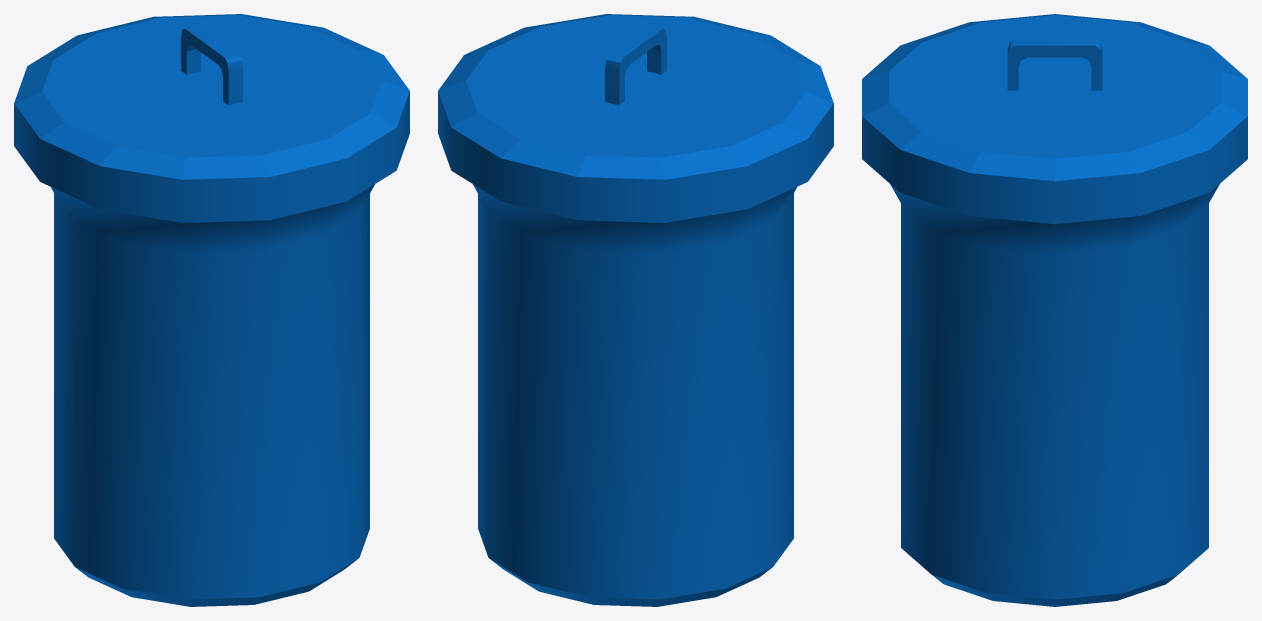
Rendered from DustBoxVer1Blue.fbx.
3 views of the same model, side by side, from view 1: azimuth 30°, elevation 25°; view 2: azimuth 150°, elevation 25°; view 3: azimuth 270°, elevation 25° (orthographic).
Visible parts, largest first — view 1: DustBoxVer1Blue1; view 2: DustBoxVer1Blue1; view 3: DustBoxVer1Blue1.
Boxes of the visible parts, <box> form: DustBoxVer1Blue1: <box>14,14,409,606</box>; DustBoxVer1Blue1: <box>438,14,833,606</box>; DustBoxVer1Blue1: <box>862,14,1247,606</box>.
Bounding box in the file's own units: 95.14 × 134 × 92.75.
